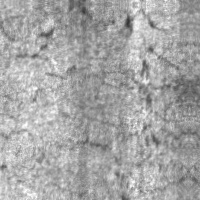crazing: (98, 22, 190, 125), (75, 121, 187, 199), (0, 13, 75, 68)
